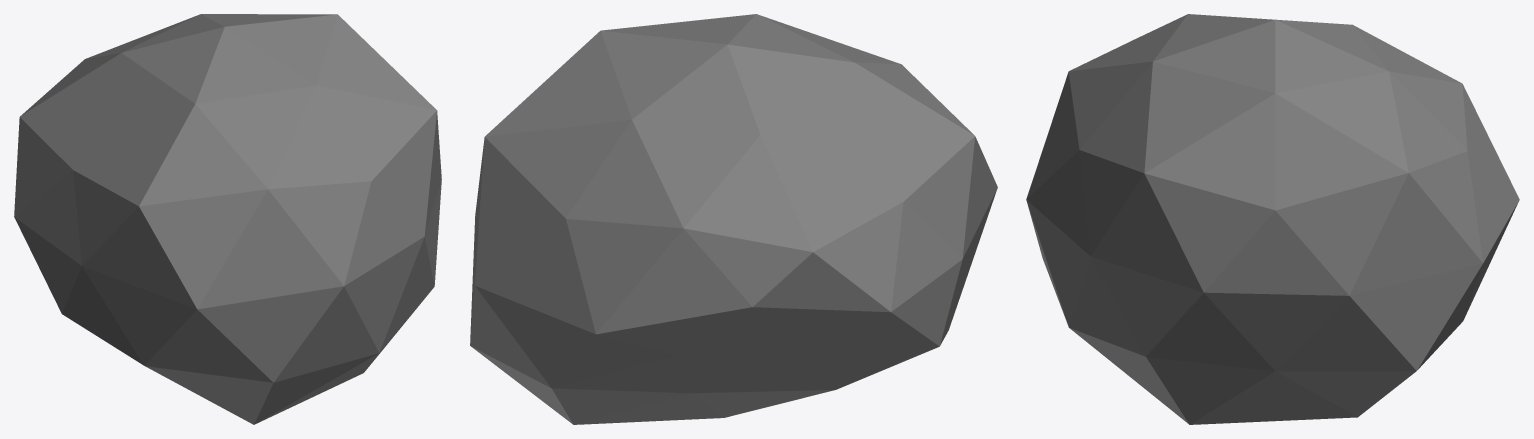
Rendered from rock-l-round_lod1.glb.
3 views of the same model, side by side, from view 1: azimuth 30°, elevation 25°; view 2: azimuth 150°, elevation 25°; view 3: azimuth 270°, elevation 25° (orthographic). The views are drawn at different scales.
Visible parts, largest first — view 1: rock-l-round; view 2: rock-l-round; view 3: rock-l-round.
Part boxes in pixels (x1=…): rock-l-round: x1=14, y1=14, x2=441, y2=424; rock-l-round: x1=470, y1=14, x2=997, y2=424; rock-l-round: x1=1026, y1=14, x2=1519, y2=424.
Bounding box in the file's own units: 3 × 2.66 × 3.35.
Materials: 1 (1 with a texture image).
